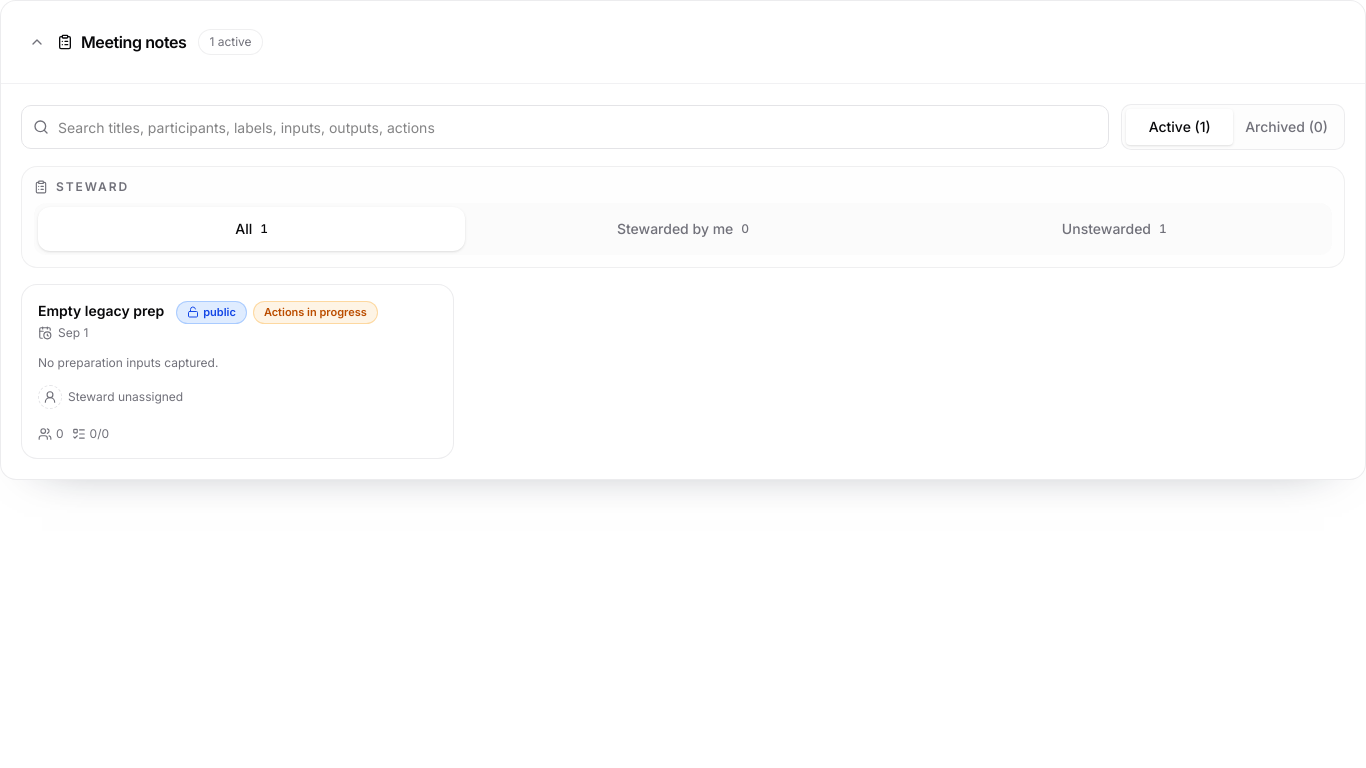
Scenario: project-meeting-notes-panel rich sections › opens an empty legacy note with muted empty states
Click the button that starts with "Empty legacy prep": (101, 310) x1=21 y1=284 x2=454 y2=459
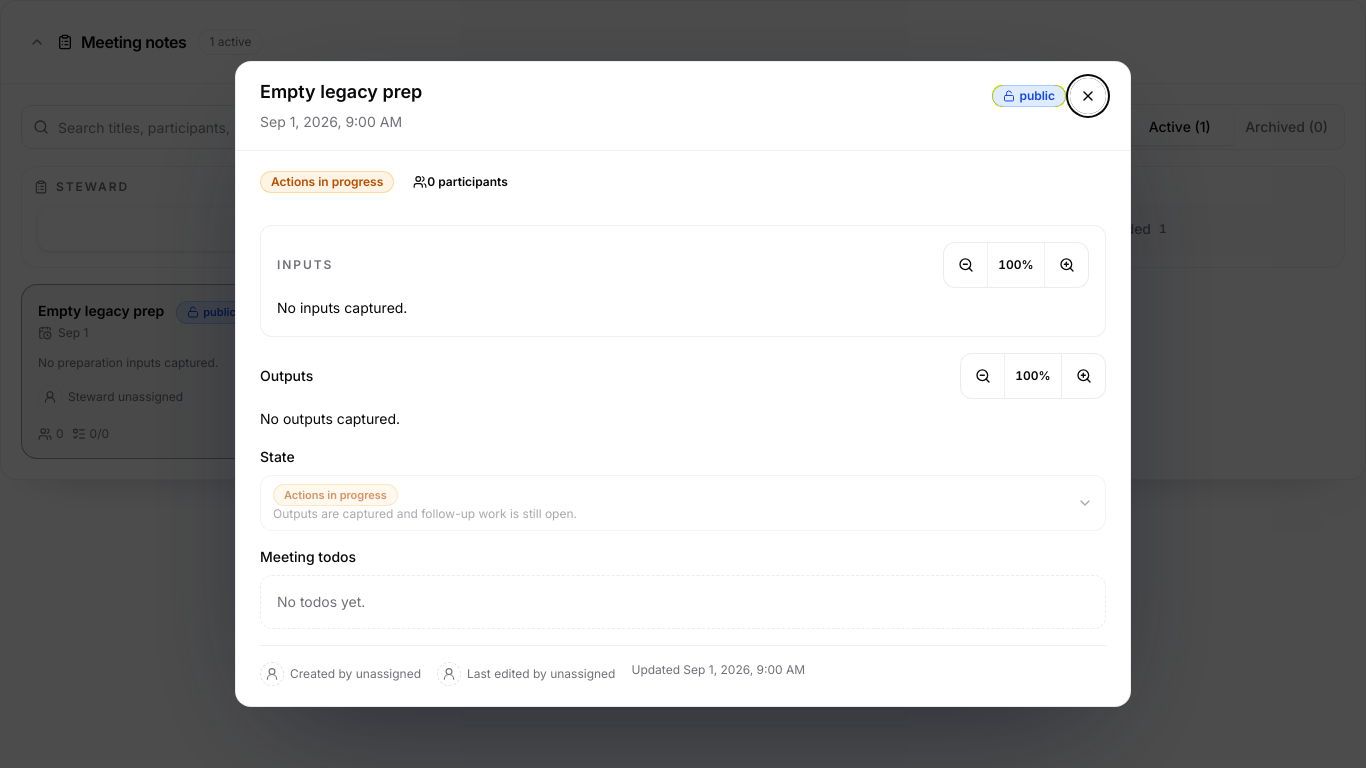
Check: the text "No inputs captured." is shown, box x1=277 y1=299 x2=407 y2=316
Check: the text "No outputs captured." is shown, box x1=260 y1=410 x2=400 y2=427
